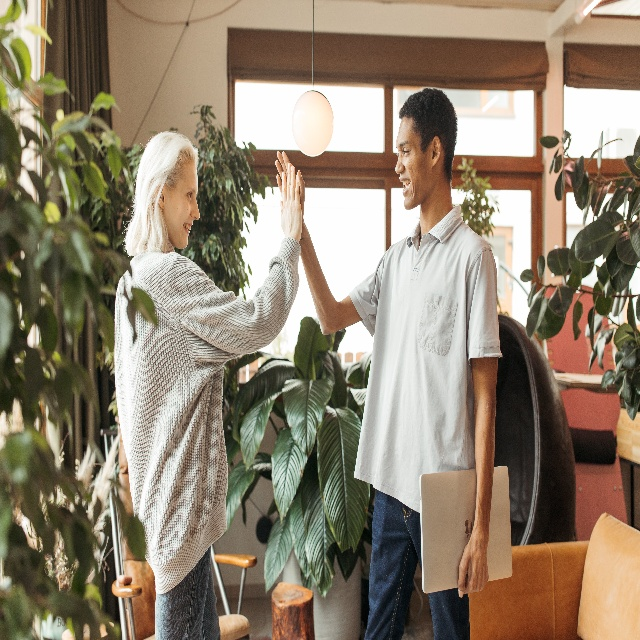Sin_guantes: (276, 150, 306, 215), (458, 537, 489, 598), (279, 162, 302, 242)
